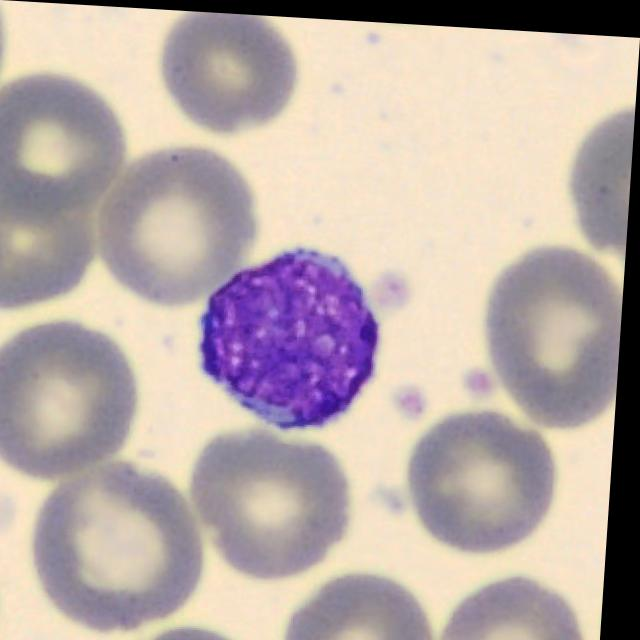Linfocito: (202, 244, 382, 427)
